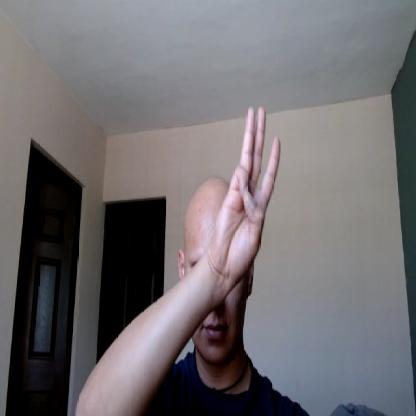W: (217, 106, 282, 292)
